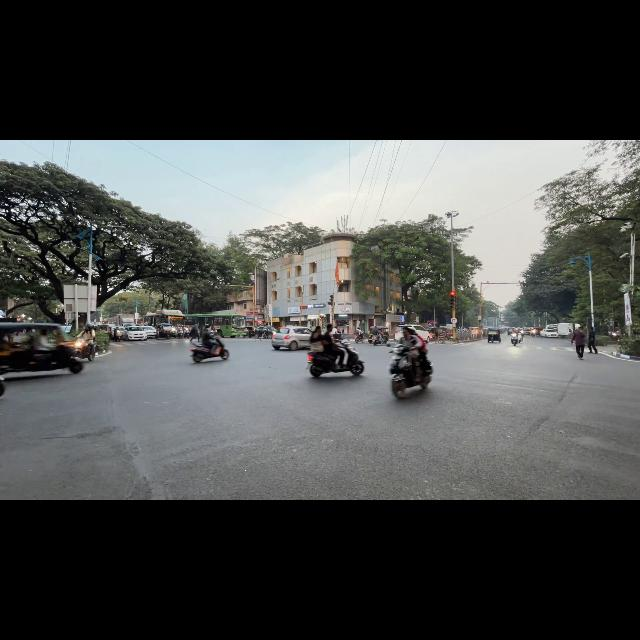bus: (186, 314, 246, 337), (144, 310, 186, 326), (114, 314, 134, 325)
car: (272, 326, 311, 350), (395, 325, 430, 342), (124, 326, 147, 340), (111, 325, 124, 341), (142, 326, 156, 337), (541, 329, 558, 337)
motorcycle: (390, 345, 432, 397), (308, 341, 364, 377), (190, 339, 229, 362), (74, 339, 95, 361), (369, 335, 387, 345), (0, 376, 5, 396), (355, 334, 364, 343), (511, 334, 518, 345), (518, 333, 522, 342)
truck: (547, 323, 579, 337), (115, 314, 135, 325)
